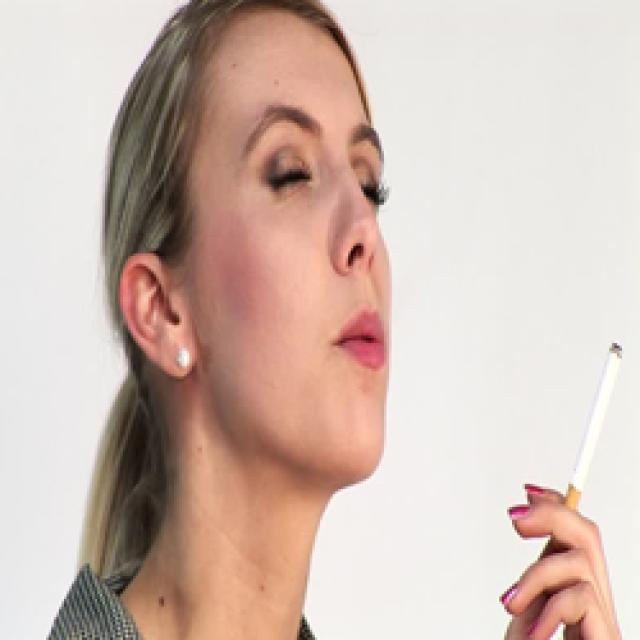Smooking: (564, 326, 632, 511)
